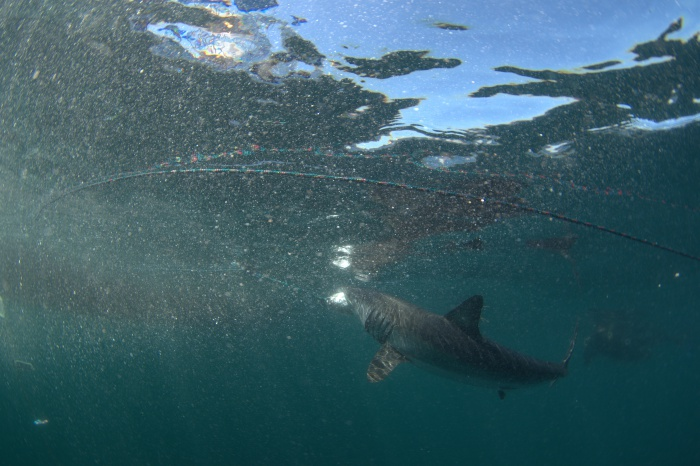Mako: (323, 280, 586, 416)
